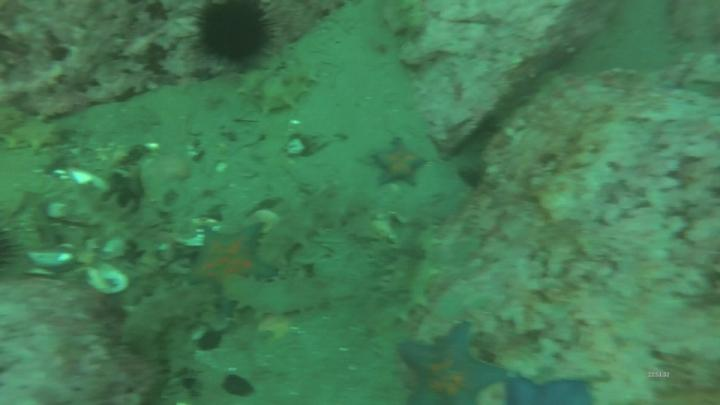echinus: (201, 4, 268, 61)
holothurian: (263, 194, 371, 269), (118, 289, 217, 339), (237, 61, 321, 112), (223, 277, 339, 312), (409, 228, 440, 321), (381, 256, 409, 298)
starfish: (401, 327, 503, 405), (199, 227, 273, 284), (376, 141, 427, 185)
